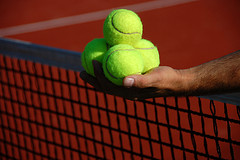tennis ball: (102, 43, 143, 86), (102, 8, 143, 46), (80, 38, 110, 76), (137, 38, 160, 75)
